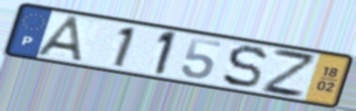1: (153, 30, 181, 77), (111, 25, 139, 69)
5: (180, 36, 225, 80)
A: (33, 14, 88, 65)
S: (220, 44, 270, 90)
Z: (259, 46, 317, 100)
